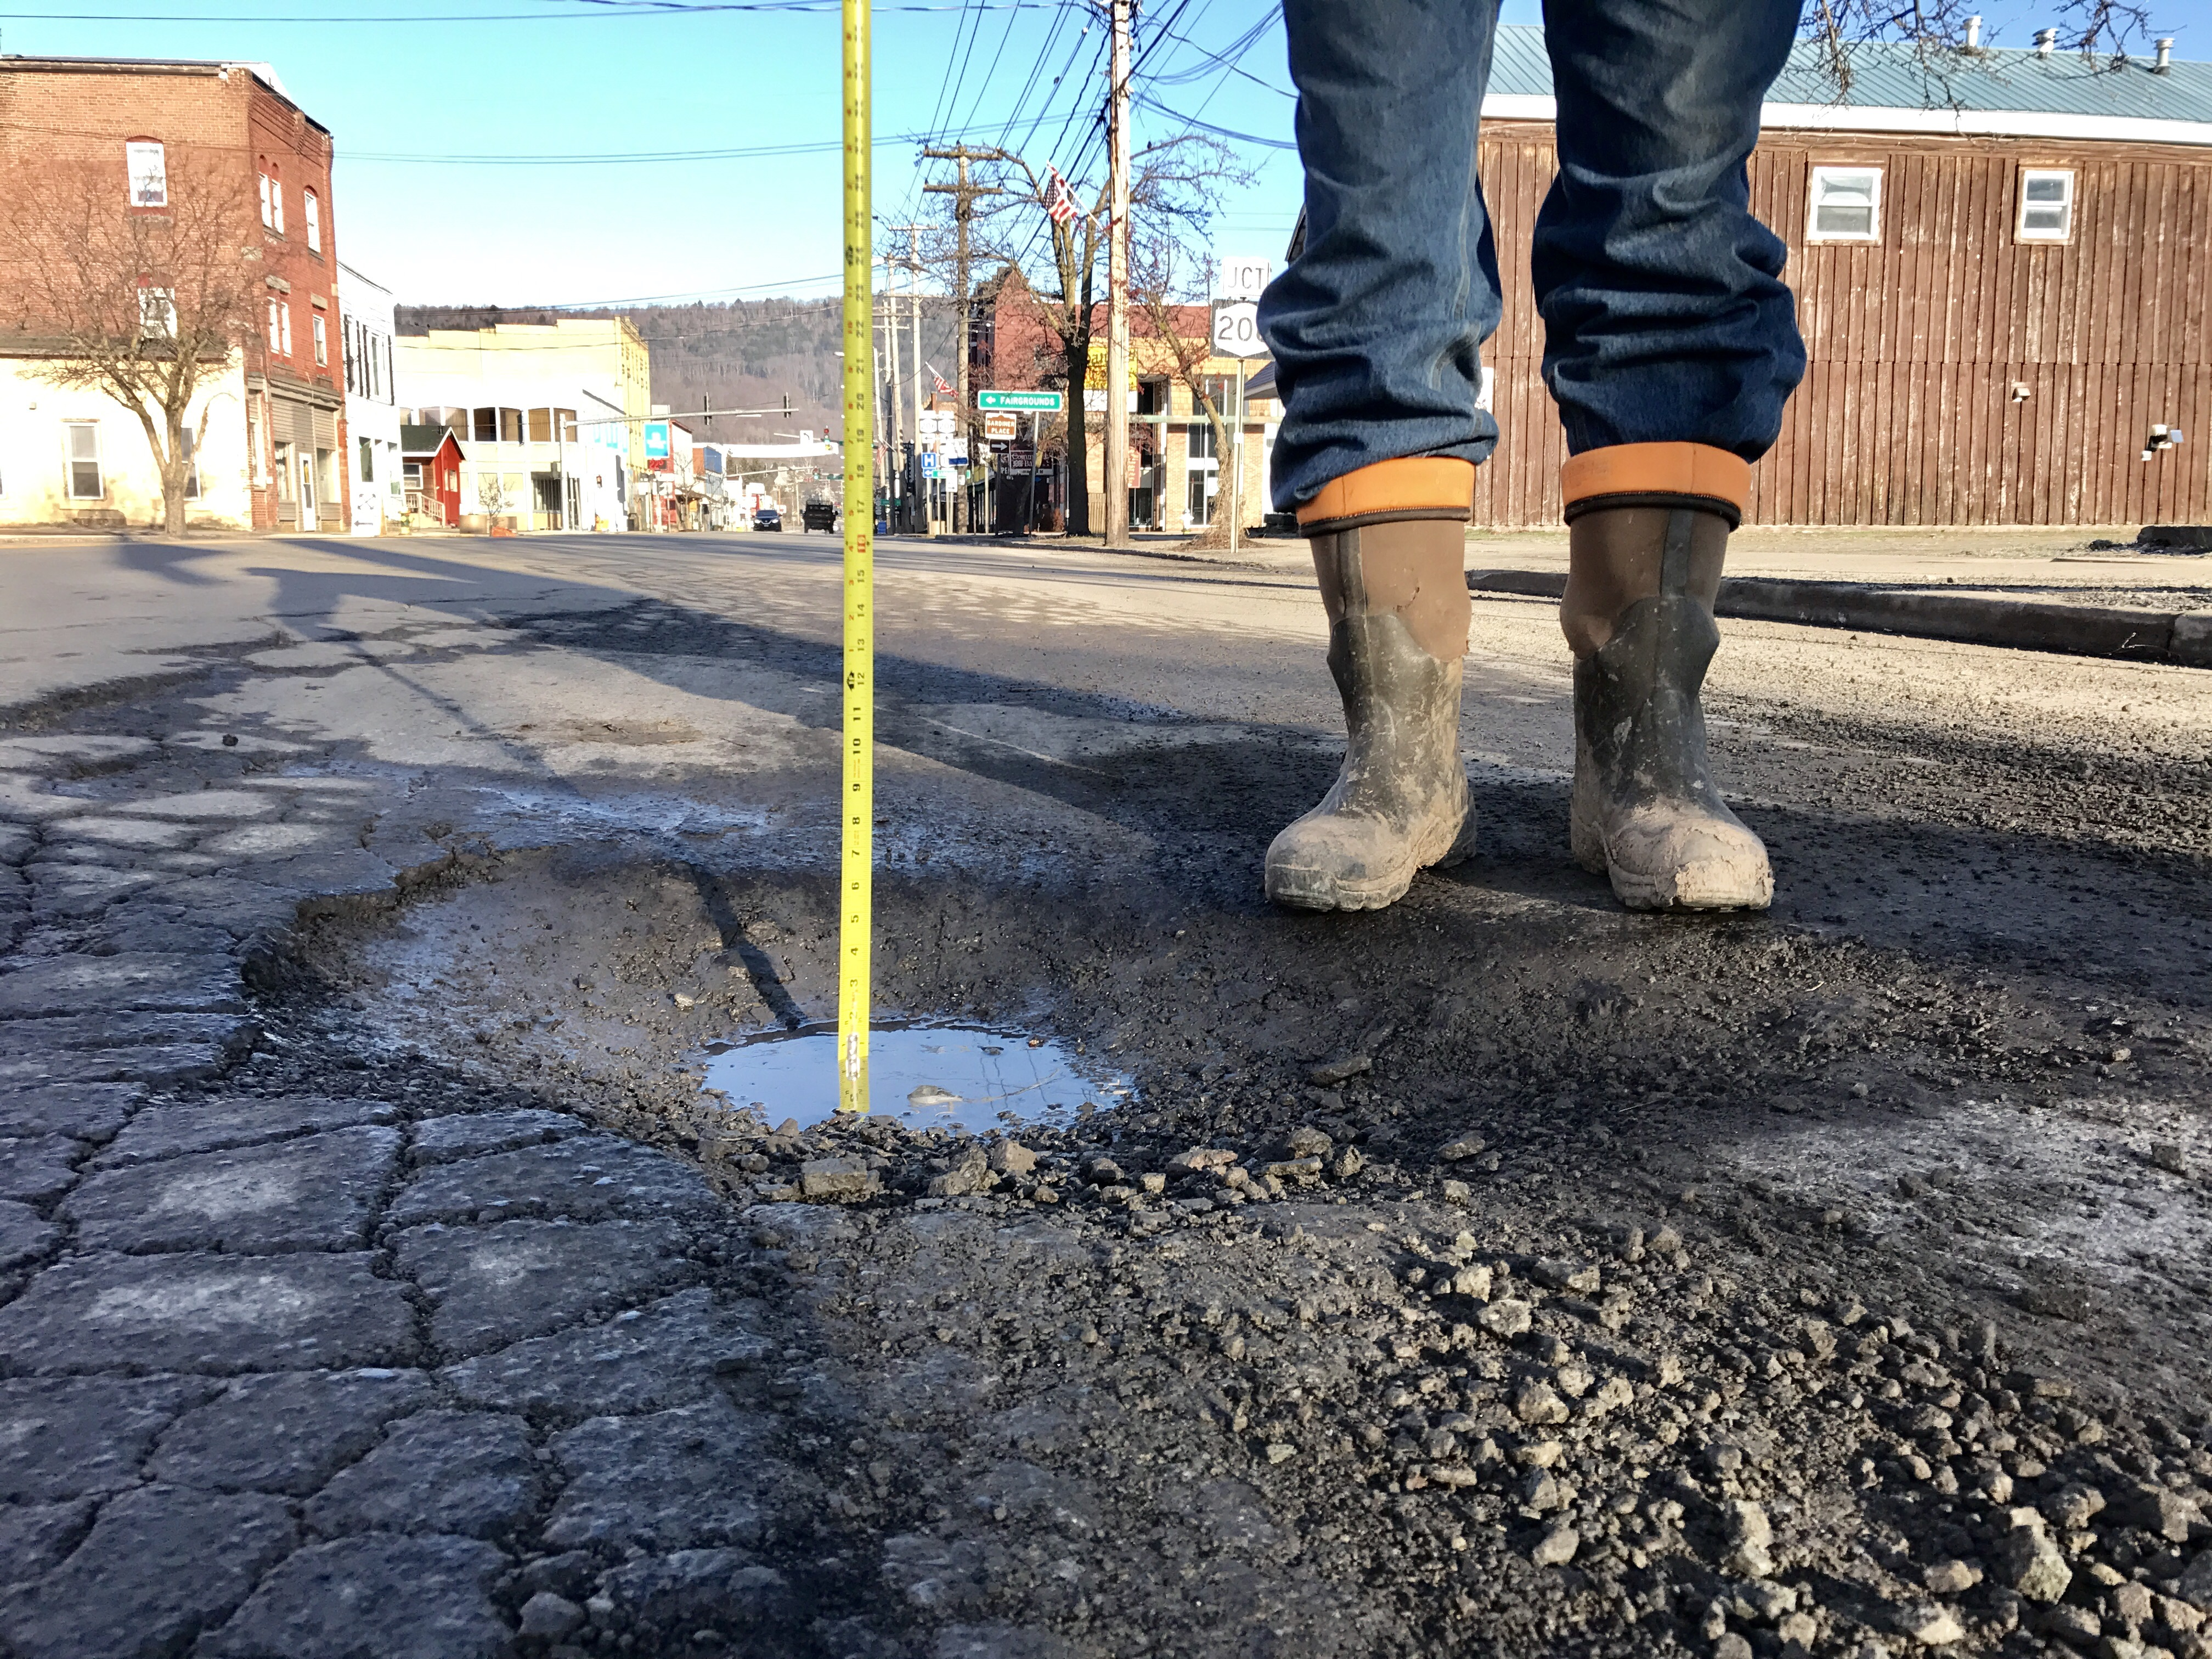pothole: (187, 802, 2168, 1612)
